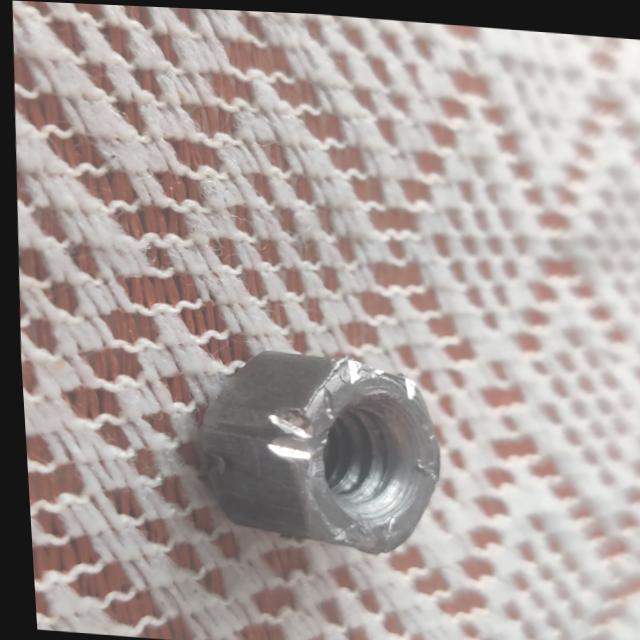infected nut: (193, 348, 433, 551)
